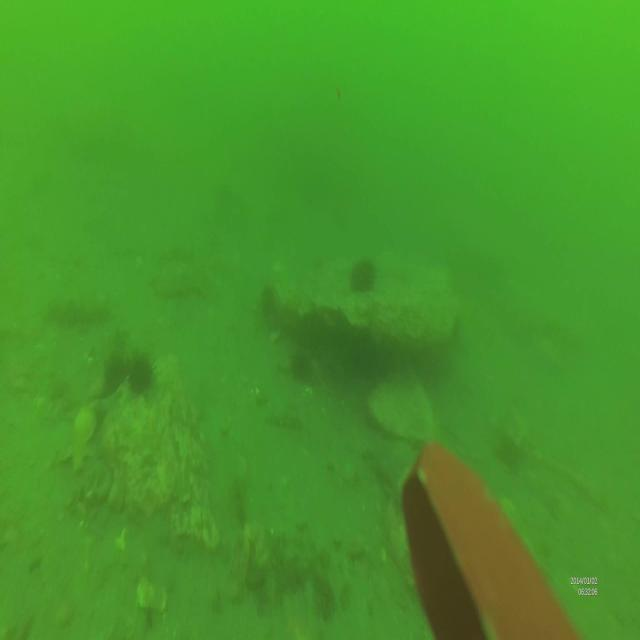echinus: (346, 253, 381, 298), (128, 351, 157, 395)
